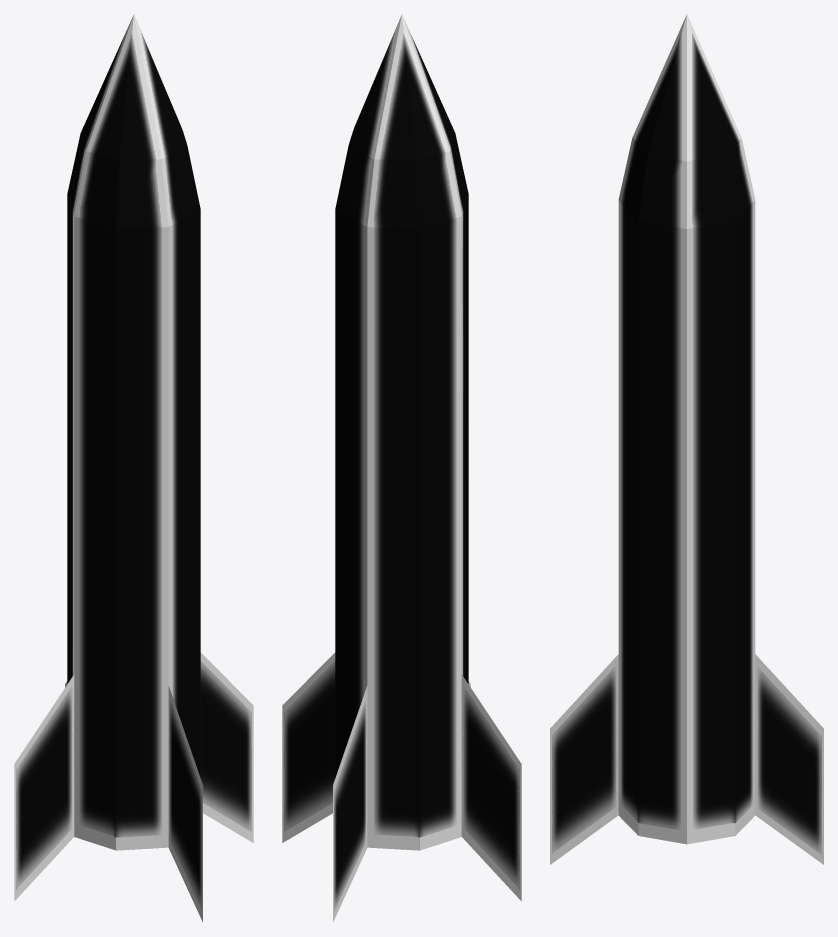
File: Missile.fbx
The picture shows the model from 3 angles, left to right: view 1: azimuth 30°, elevation 25°; view 2: azimuth 150°, elevation 25°; view 3: azimuth 270°, elevation 25°; orthographic projection.
Parts seen in each view (by area): view 1: Missile; view 2: Missile; view 3: Missile.
Part boxes in pixels (x1,y1,x2,y2): Missile: (14,14,253,922); Missile: (282,14,521,922); Missile: (550,14,823,864).
Size of the model in its own units: 0.5 by 1.71 by 0.5.
